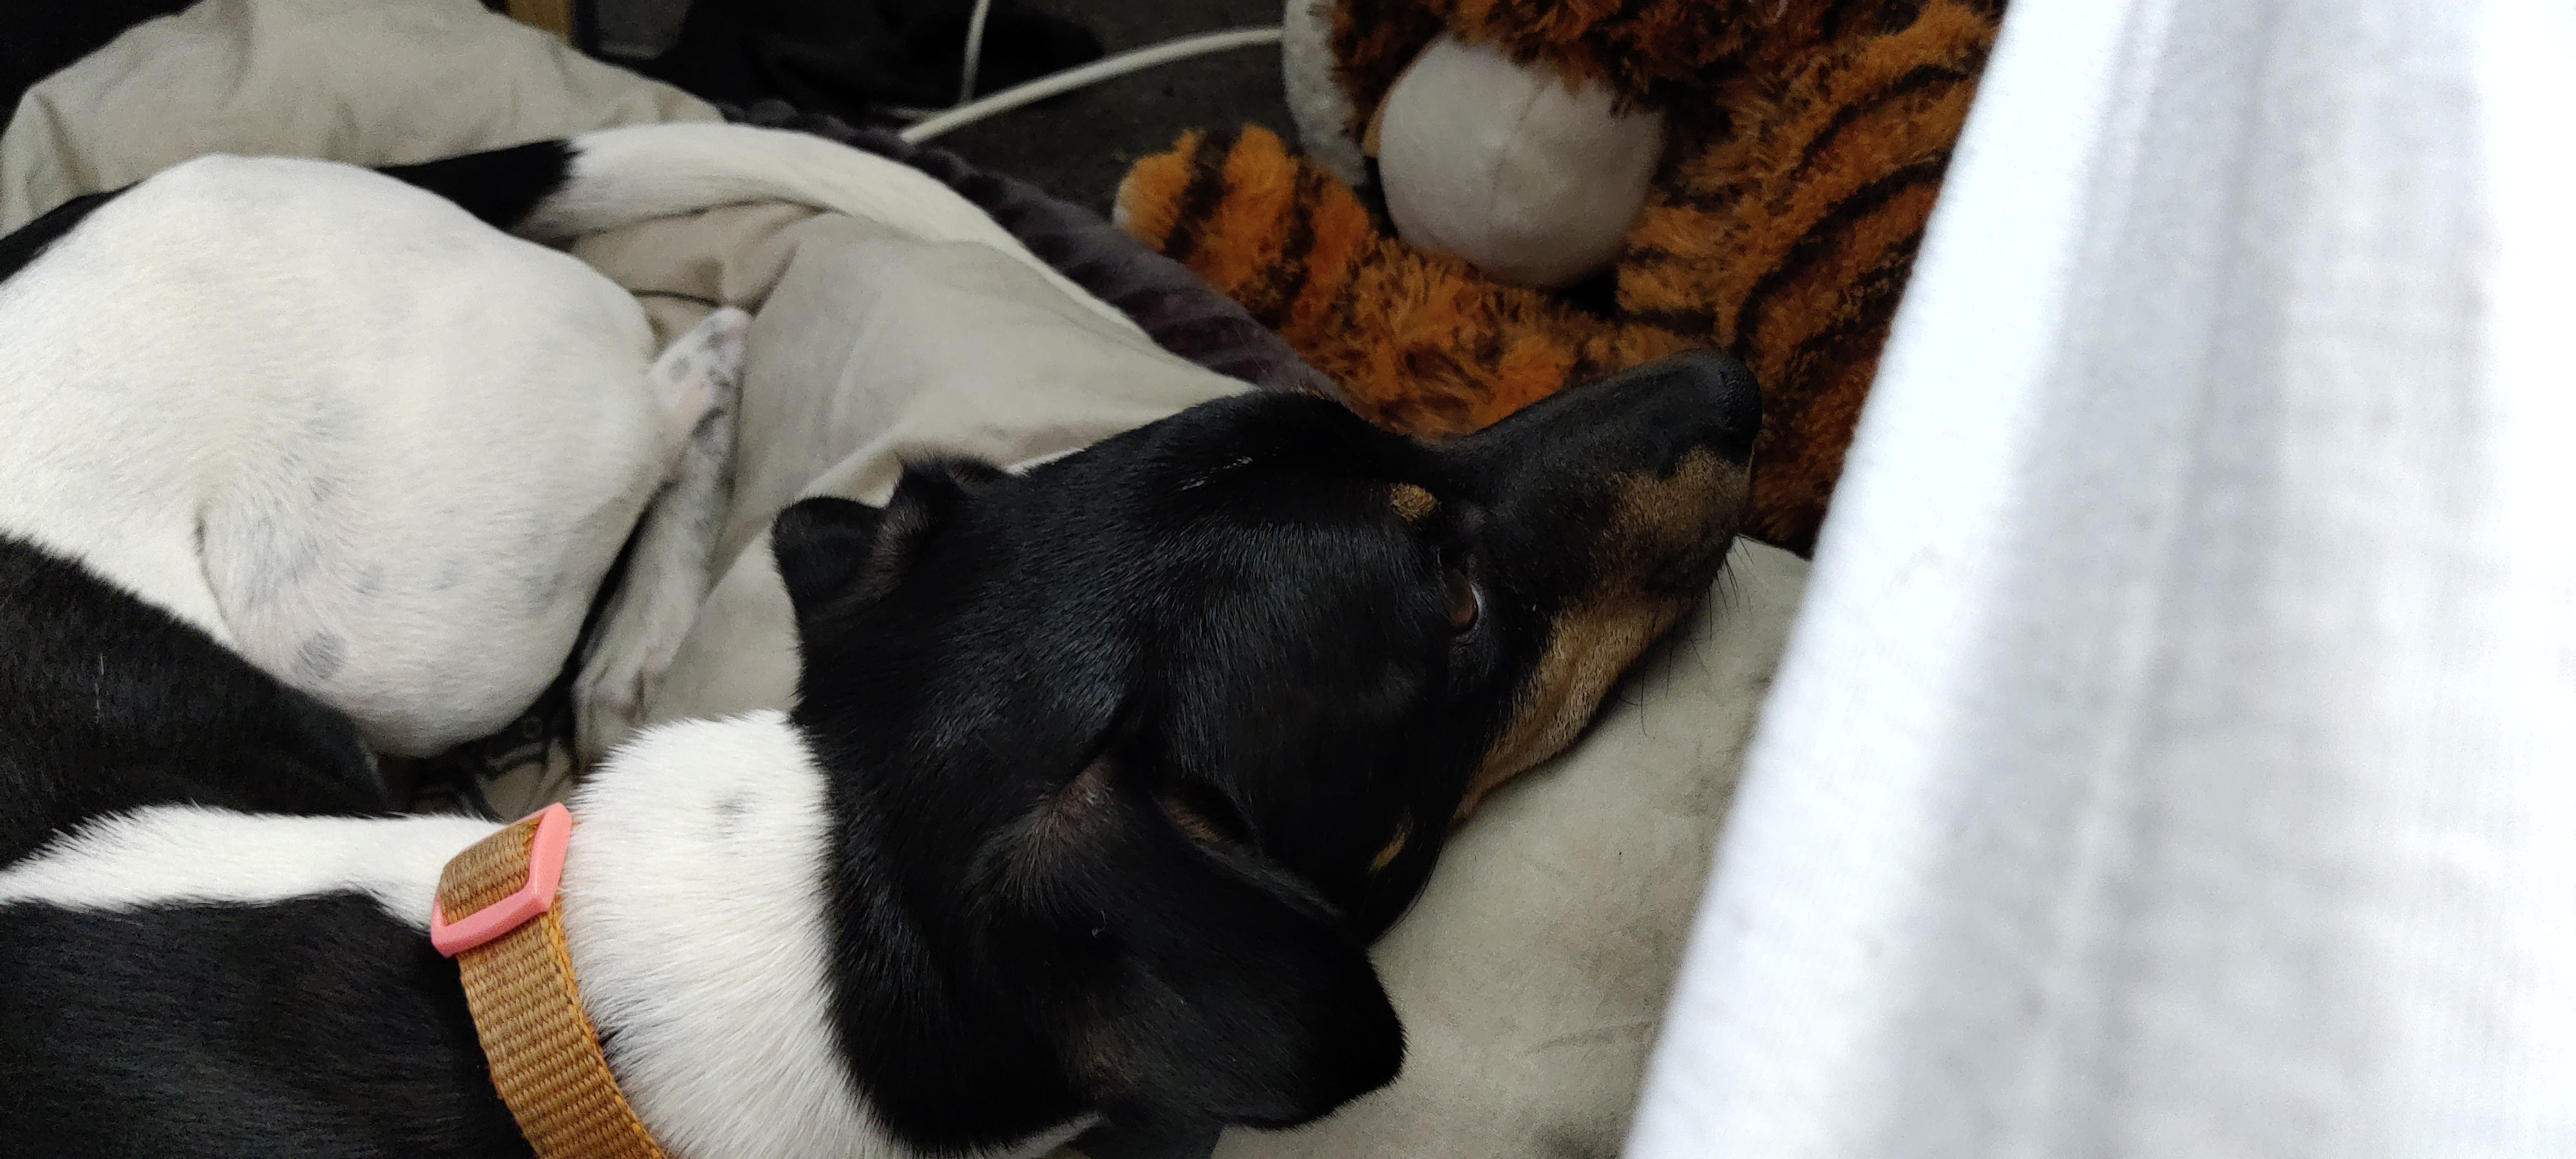Dog: (0, 115, 1774, 1159)
